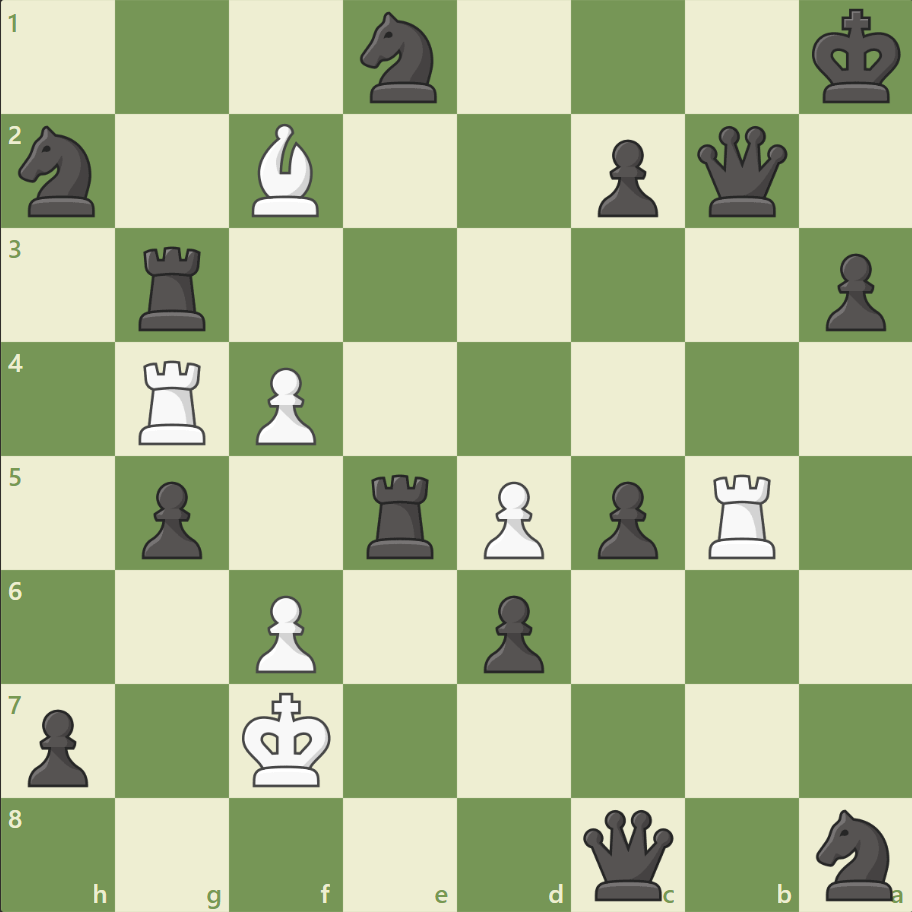B: (244, 120, 328, 222)
K: (238, 685, 338, 793)
P: (247, 586, 322, 677), (474, 473, 549, 564), (247, 359, 322, 450)
R: (700, 466, 783, 563), (133, 352, 215, 449)
k: (806, 4, 906, 112)
n: (351, 7, 449, 110), (806, 802, 903, 904), (11, 121, 108, 223)
p: (20, 700, 95, 791), (474, 586, 549, 677), (133, 473, 208, 564), (588, 473, 662, 564), (815, 246, 889, 337), (588, 132, 662, 223)
q: (691, 122, 790, 222), (578, 804, 677, 903)
r: (360, 466, 442, 563), (133, 239, 215, 336)
